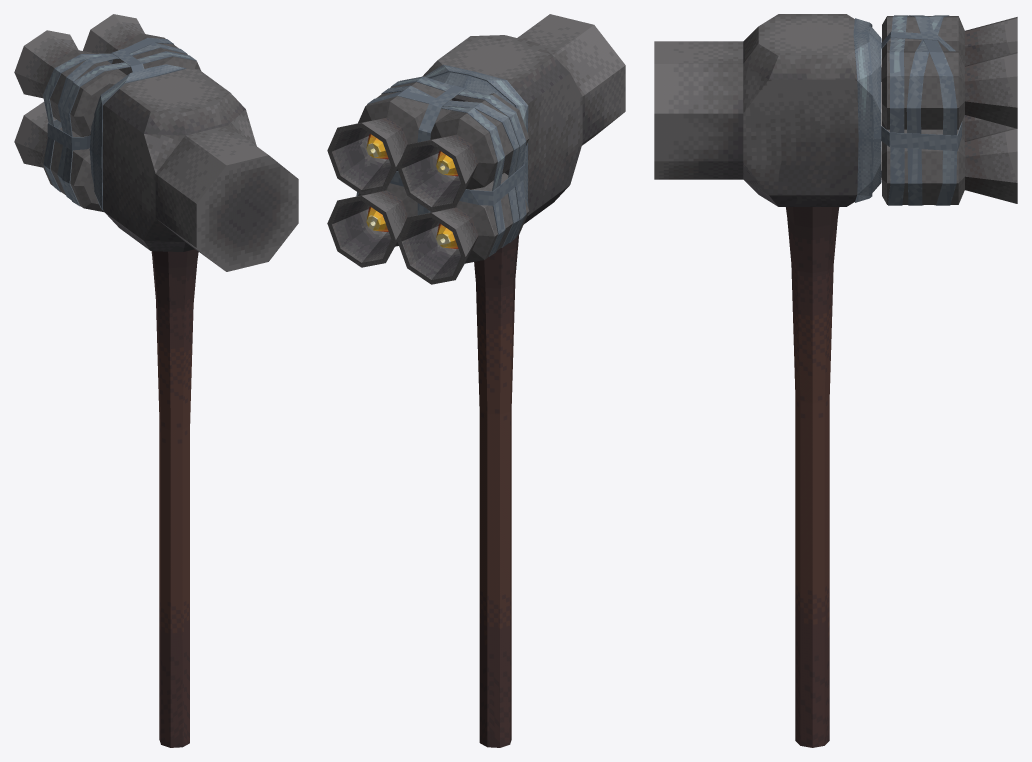
File: SledgeHammer1.fbx
3 renders of one model, left to right at view 1: azimuth 30°, elevation 25°; view 2: azimuth 150°, elevation 25°; view 3: azimuth 270°, elevation 25°, orthographic. The views are drawn at different scales.
Visible parts, largest first — view 1: Hammer.010, Rocket; view 2: Hammer.010, Rocket; view 3: Hammer.010, Rocket.
Boxes of the visible parts, bbox=[...] form: Hammer.010: bbox=[102, 69, 298, 747]; Rocket: bbox=[14, 14, 200, 211]; Hammer.010: bbox=[422, 14, 625, 747]; Rocket: bbox=[327, 64, 529, 284]; Hammer.010: bbox=[654, 14, 881, 747]; Rocket: bbox=[853, 15, 1017, 205].
Bounding box in the file's own units: 26.28 × 121 × 56.29.
